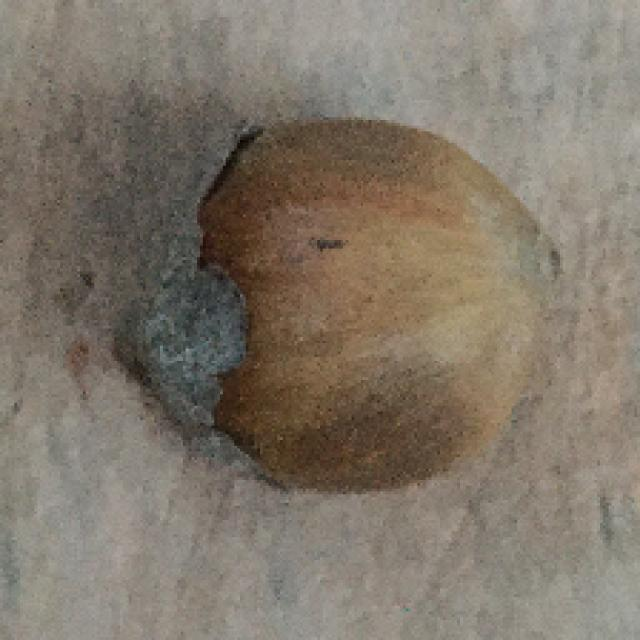damagedHazelnut: (130, 118, 554, 502)
